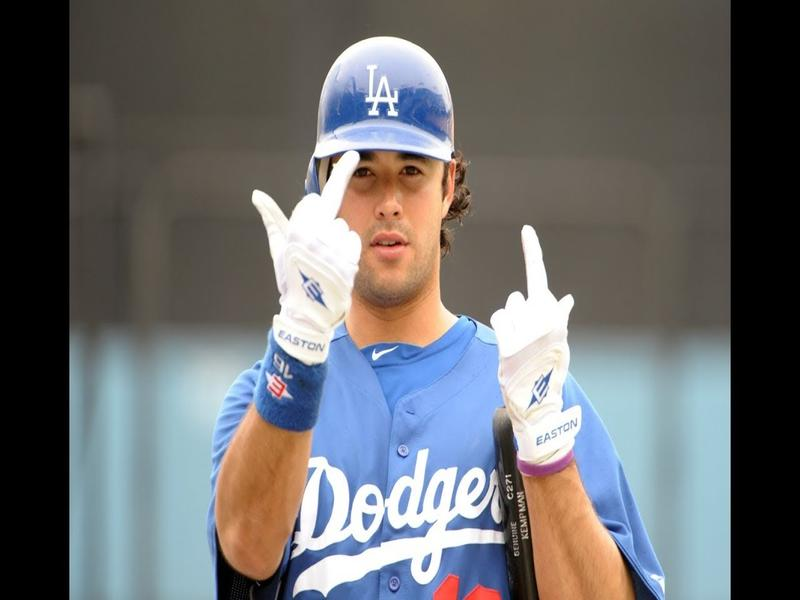flipping_the_bird: (237, 140, 381, 333), (465, 228, 586, 398)
